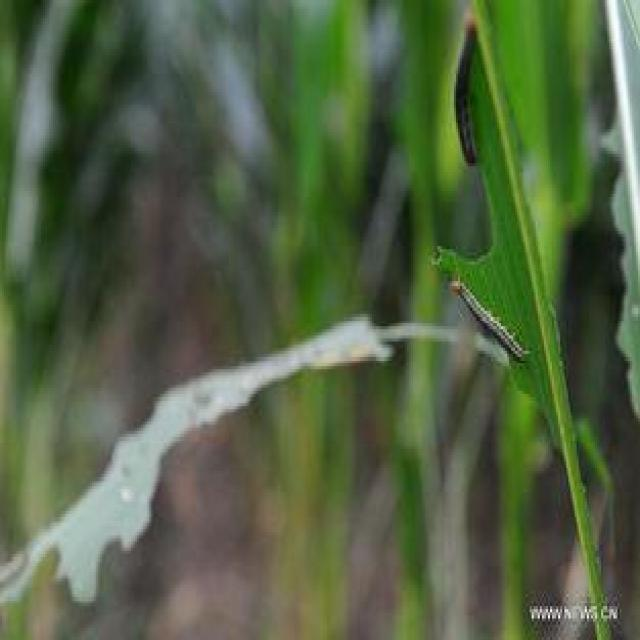BeetArmyWorm-Larva-: (441, 269, 536, 374)
